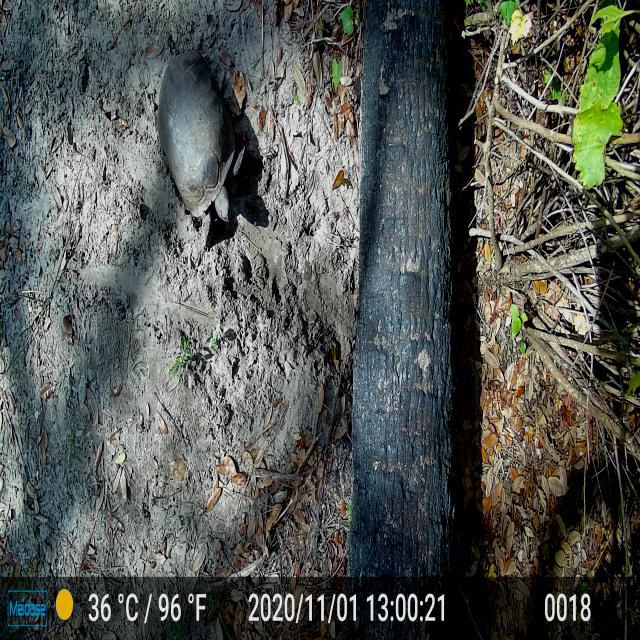tortoise: (156, 43, 249, 261)
